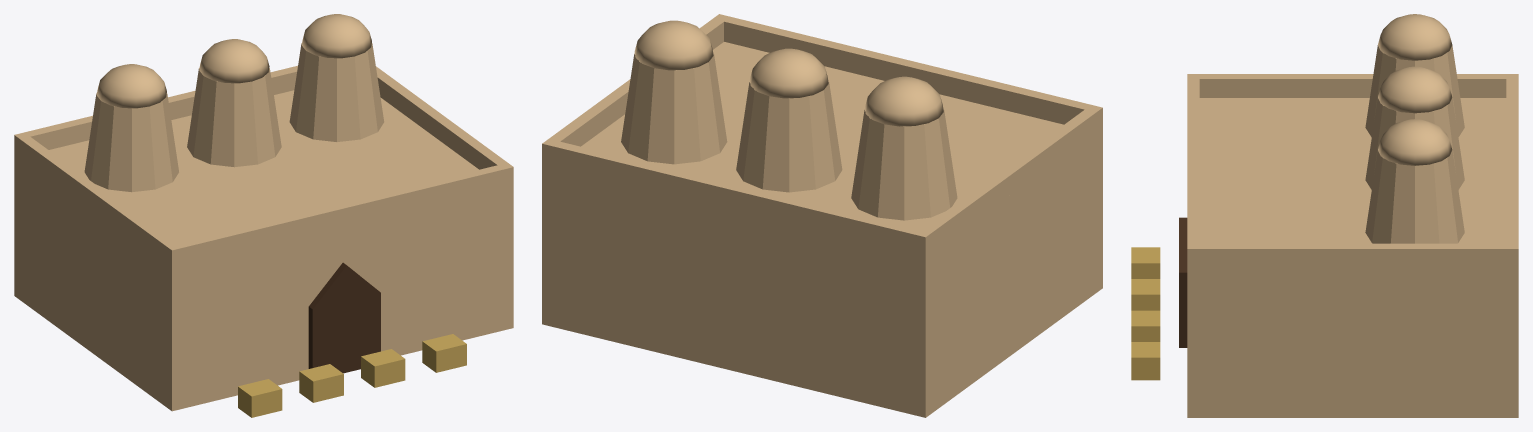
Rendered from granary.glb.
3 views of the same model, side by side, from view 1: azimuth 30°, elevation 25°; view 2: azimuth 150°, elevation 25°; view 3: azimuth 270°, elevation 25° (orthographic). The views are drawn at different scales.
Visible parts, largest first — view 1: Granary; view 2: Granary; view 3: Granary.
Boxes of the visible parts, x1=… form: Granary: x1=14, y1=14, x2=513, y2=417; Granary: x1=542, y1=14, x2=1102, y2=417; Granary: x1=1131, y1=14, x2=1518, y2=417.
Size of the model in its own units: 10 by 6.92 by 9.35.
